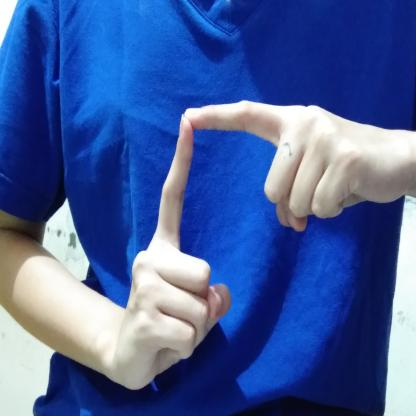when: (119, 92, 388, 400)
